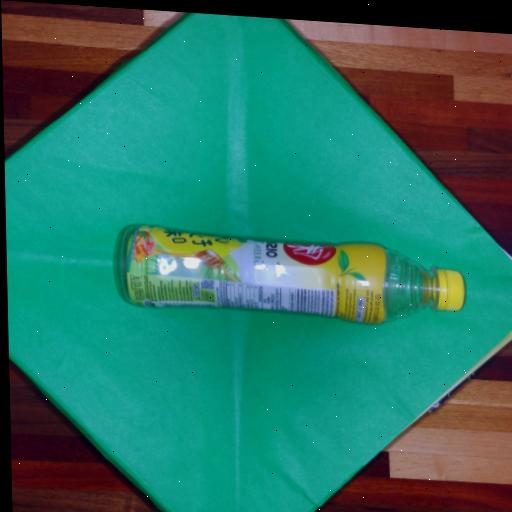bottle: (97, 216, 479, 337)
